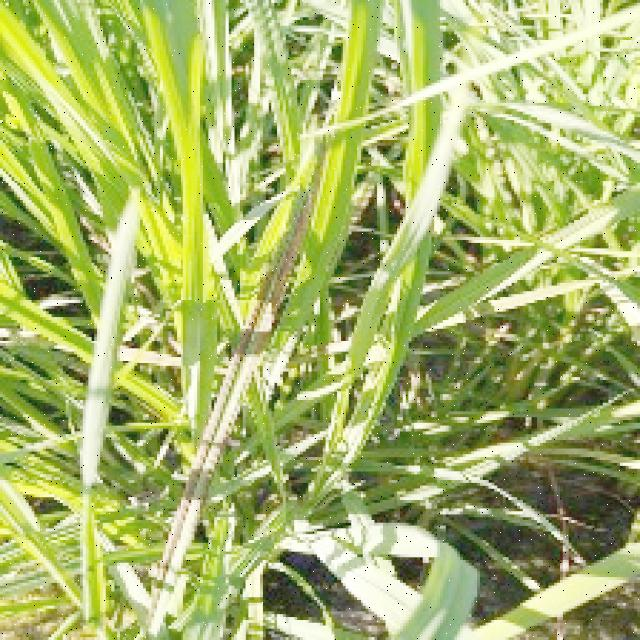health: (0, 68, 251, 637)
